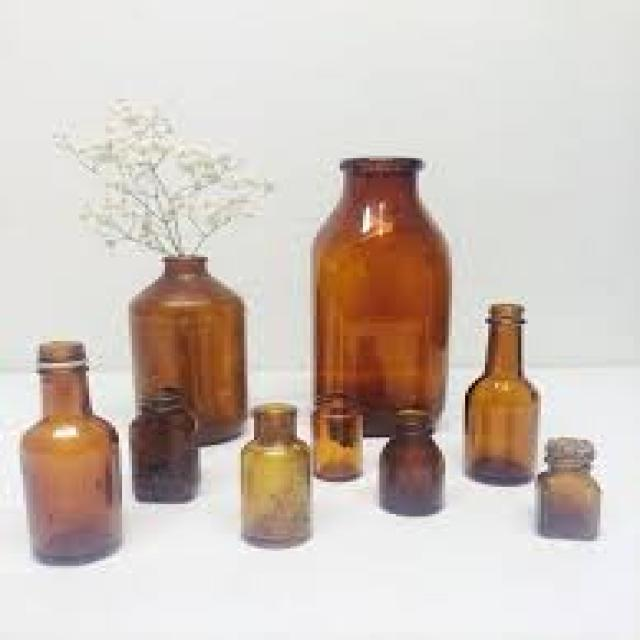glass: (307, 154, 442, 438), (122, 252, 241, 445), (17, 341, 116, 563), (465, 302, 535, 485), (237, 400, 307, 546), (129, 386, 198, 502), (376, 405, 442, 514), (535, 437, 601, 539), (310, 388, 356, 479)
